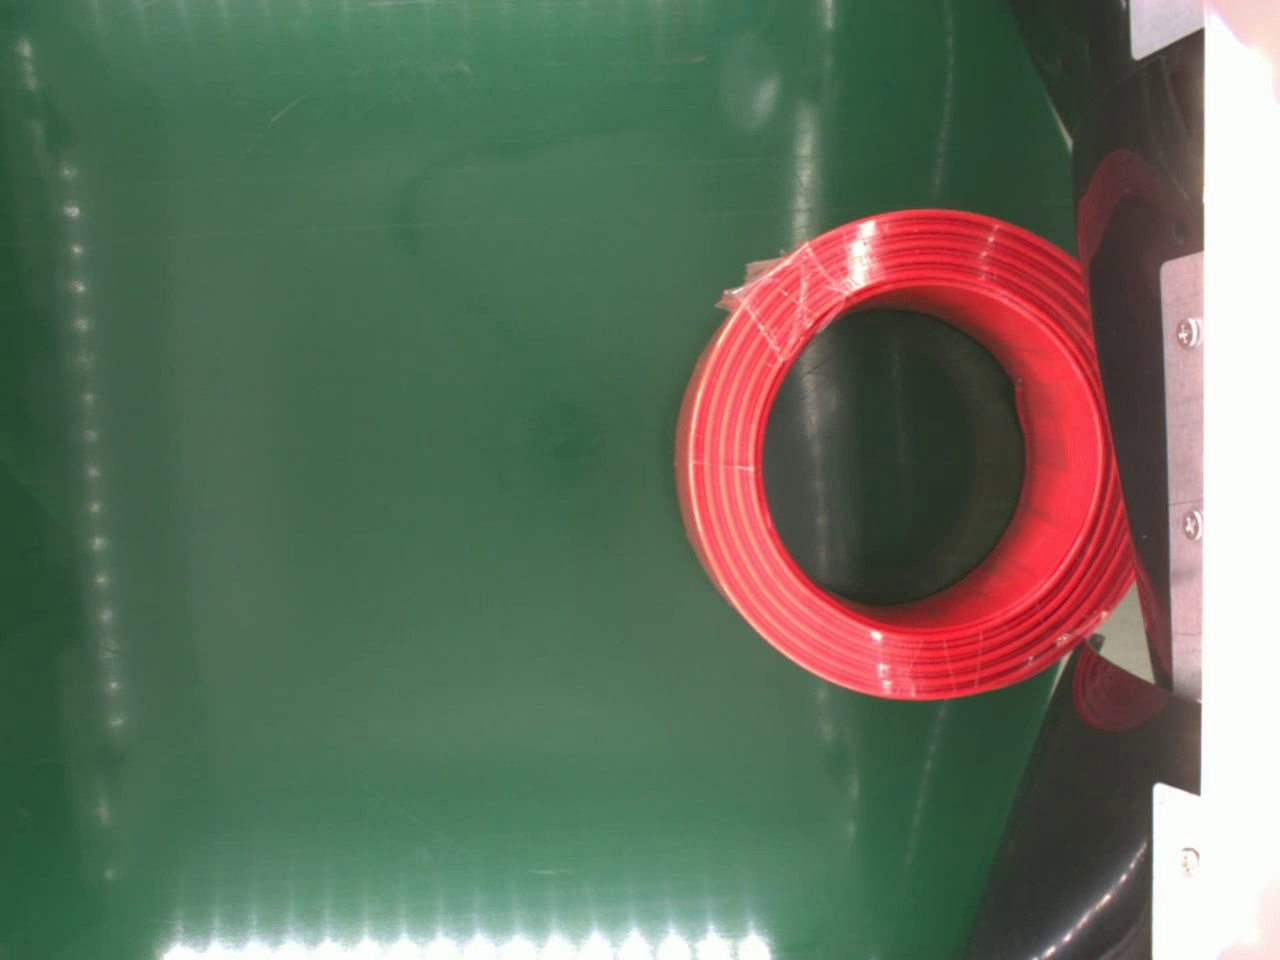red: (670, 206, 1137, 704)
